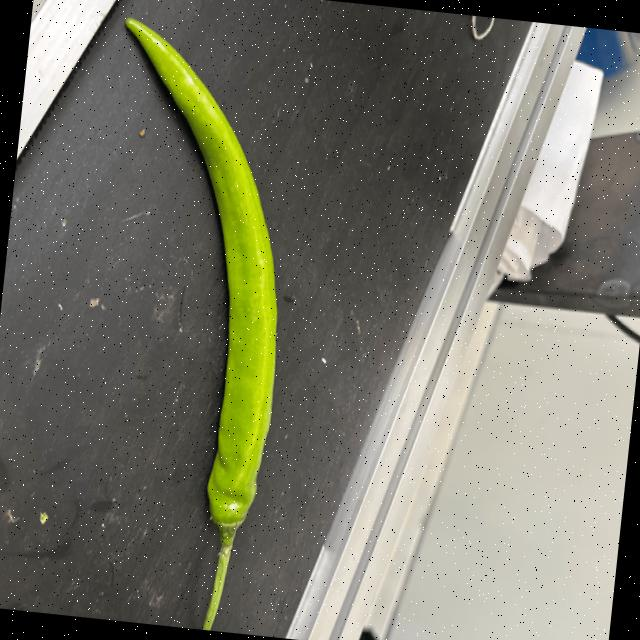chili: (120, 15, 276, 534)
